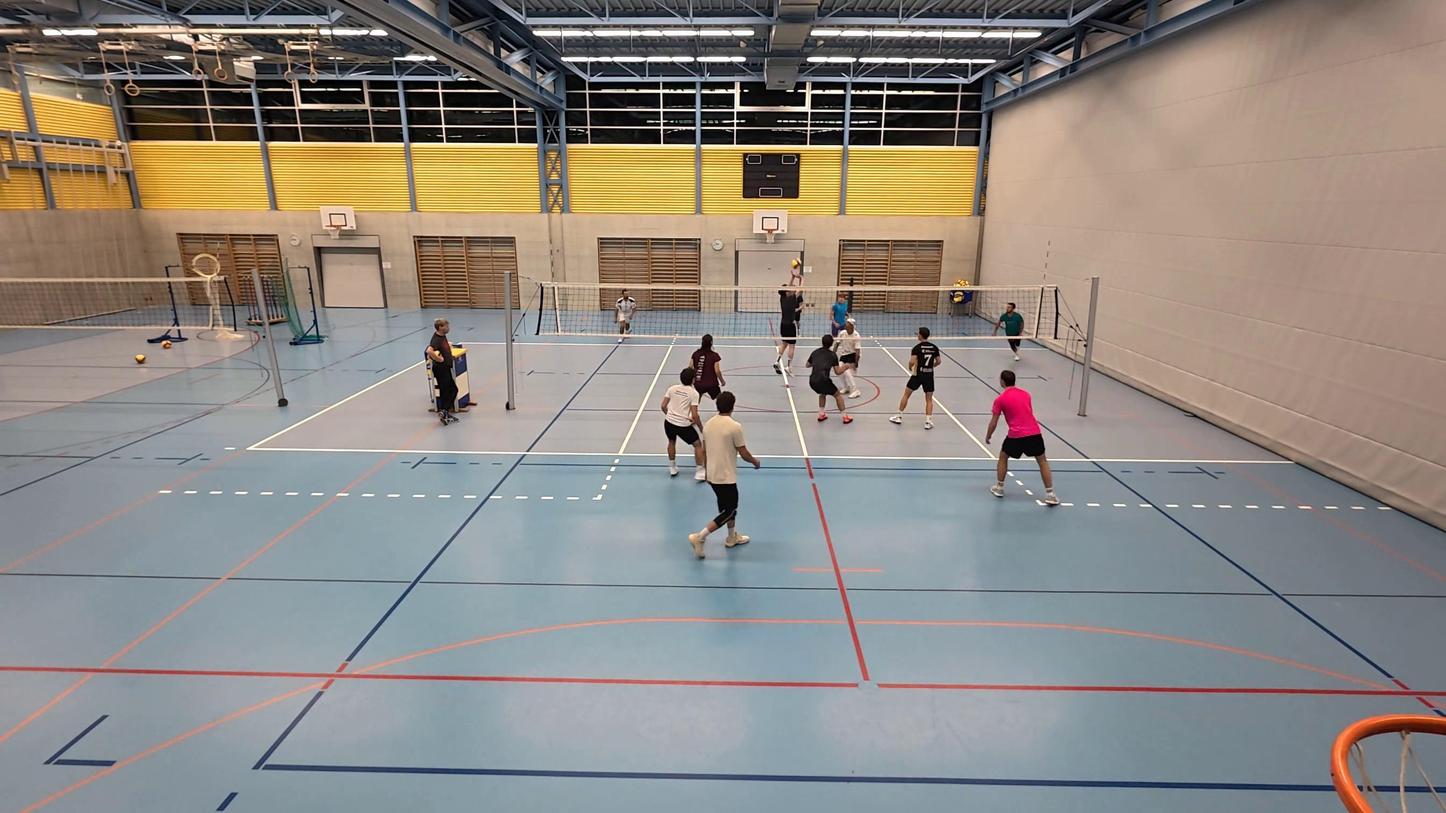Player: (690, 386, 760, 559), (986, 369, 1061, 505), (890, 326, 941, 428), (661, 368, 706, 479), (806, 332, 852, 423), (683, 334, 727, 413), (834, 317, 866, 398), (993, 301, 1027, 366), (614, 290, 634, 341)
Set: (771, 273, 809, 377)
ball: (790, 258, 803, 268)
